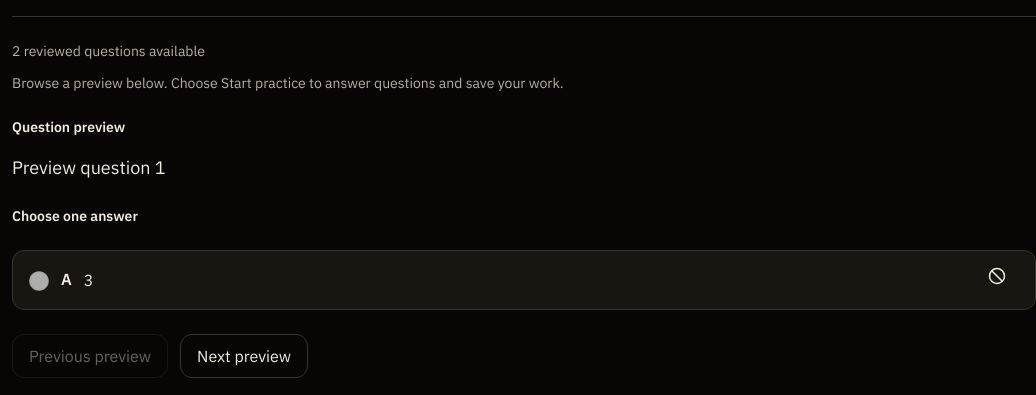
Test: read-only admitted question previews › lets students browse every question with no answer entry or key disclosure
Expected: the text "Preview question 1" is shown, [12,156,166,179]
Expected: the radio button named "Choice A" is disabled, [29,271,49,291]
Click the button "Next preview" at (244, 356), box [180,334,308,378]
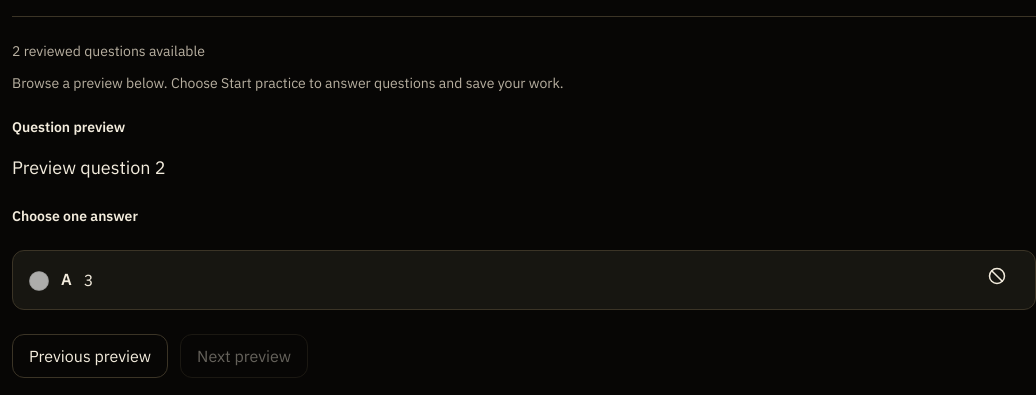
Expected: the text "Preview question 2" is shown, [12,156,166,179]
Expected: the button "Next preview" is disabled, [180,334,308,378]
